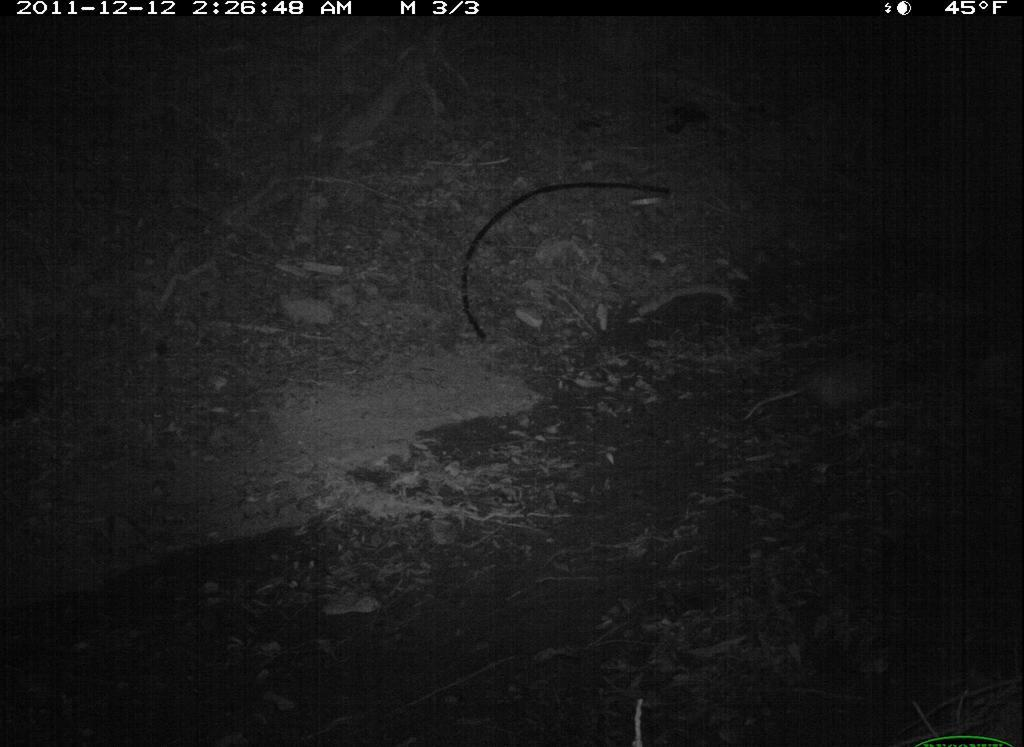opossum: (751, 348, 917, 431)
